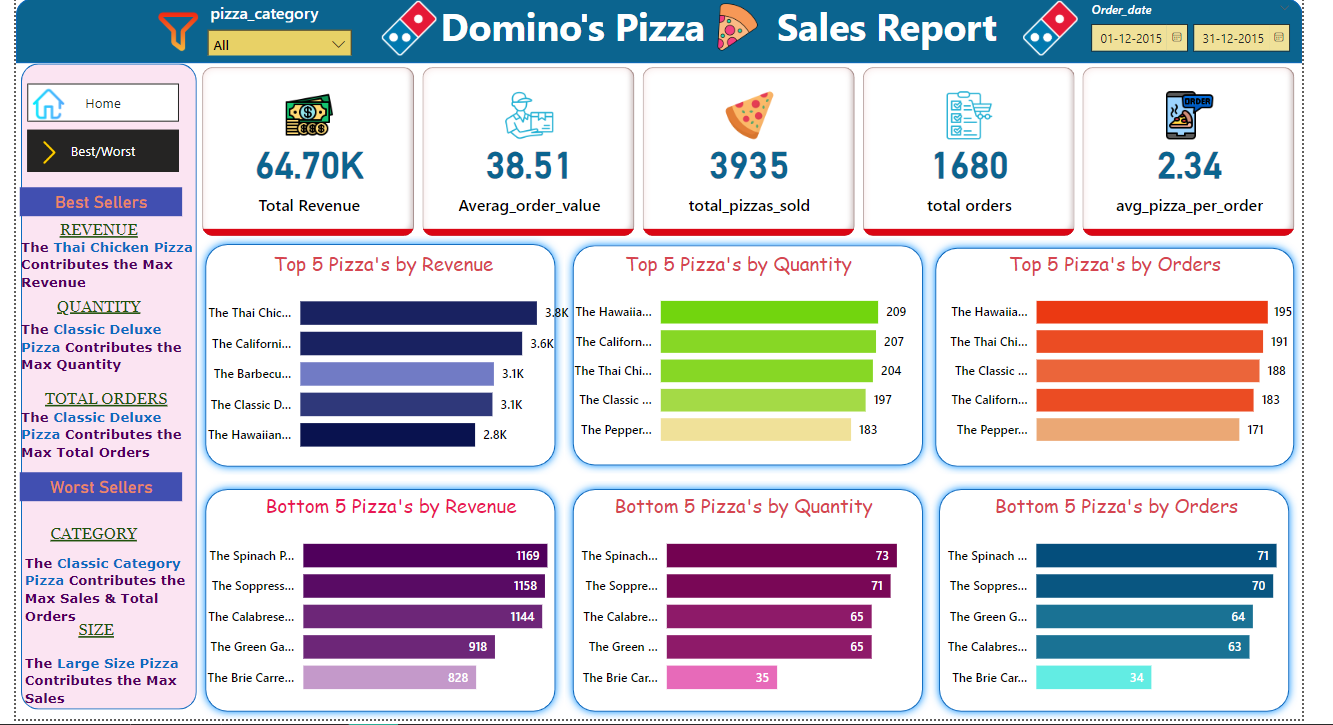

What the dashboard file says about the page in this screenshot:
{"tool":"powerbi","page":{"name":"Best/Worst","canvas":[1280,720],"ordinal":1},"visuals":[{"type":"cardVisual","fields":{"Data":["pizza_sales.Total Revenue","pizza_sales.Averag_order_value","pizza_sales.total_pizzas_sold","pizza_sales.total orders","pizza_sales.avg_pizza_per_order"]},"box":[180.3,66.1,1099.9,179],"z":0},{"type":"shape","box":[0,2.7,1280.3,64.5],"z":1000},{"type":"image","box":[329.3,0,123.5,64.5],"z":2000},{"type":"image","box":[967.4,0,123.5,64.5],"z":3000},{"type":"textbox","box":[318.4,0,761.6,65.9],"z":4000},{"type":"image","box":[649.1,1.4,137.2,59],"z":5000},{"type":"shape","box":[180.4,238.8,364.5,237.6],"z":6000},{"type":"shape","box":[5.5,67.5,174.8,642.9],"z":7000},{"type":"slicer","fields":{"Values":["pizza_sales.pizza_category"]},"box":[179.8,0,163.3,59],"z":8000},{"type":"slicer","fields":{"Values":["pizza_sales.order_date"]},"box":[1058,0,222.3,60.4],"z":9000},{"type":"shape","box":[546.1,240.1,364.5,235.1],"z":10000},{"type":"shape","box":[906.8,242.6,373.2,233.9],"z":11000},{"type":"shape","box":[180.4,482.7,364.5,237.6],"z":12000},{"type":"shape","box":[546.1,482.7,364.5,237.6],"z":13000},{"type":"shape","box":[910.6,482.7,364.5,237.6],"z":14000},{"type":"barChart","title":"Top 5 Pizza''s by Revenue","fields":{"Category":["pizza_sales.pizza_name"],"Y":["pizza_sales.Total Revenue"]},"box":[174.3,252.5,382.8,214.1],"z":15000},{"type":"barChart","title":"Bottom 5 Pizza''s by Revenue ","fields":{"Category":["pizza_sales.pizza_name"],"Y":["pizza_sales.Total Revenue"]},"box":[174.3,494,397.9,214.1],"z":16000},{"type":"barChart","title":"Top 5 Pizza''s by Quantity","fields":{"Category":["pizza_sales.pizza_name"],"Y":["pizza_sales.total_pizzas_sold"]},"box":[539.6,251.9,357.9,207.9],"z":17000},{"type":"barChart","title":"Top 5 Pizza''s by Orders","fields":{"Category":["pizza_sales.pizza_name"],"Y":["pizza_sales.total orders"]},"box":[911.3,251.9,363.4,207.9],"z":18000},{"type":"barChart","title":"Bottom 5 Pizza''s by Quantity","fields":{"Category":["pizza_sales.pizza_name"],"Y":["pizza_sales.total_pizzas_sold"]},"box":[544.8,494,358.1,214.1],"z":19000},{"type":"barChart","title":"Bottom 5 Pizza''s by Orders","fields":{"Category":["pizza_sales.pizza_name"],"Y":["pizza_sales.total orders"]},"box":[911.2,494,369.1,214.1],"z":20000},{"type":"pageNavigator","box":[11,133.5,151.4,42.7],"z":21000},{"type":"pageNavigator","box":[11,86.7,151.4,38.5],"z":22000},{"type":"image","box":[11,86.7,42.7,41.3],"z":23000},{"type":"image","box":[122.5,2.8,79.8,64.7],"z":24000},{"type":"image","box":[13.8,139,39.9,33],"z":25000},{"type":"textbox","box":[4.1,190.7,161.9,28.8],"z":26000},{"type":"textbox","box":[0,234.6,201.7,97.4],"z":27000},{"type":"textbox","box":[4.1,649.1,201.7,67.2],"z":28000},{"type":"textbox","box":[11,617.5,137.2,31.6],"z":29000},{"type":"textbox","box":[4.1,550.3,201.7,83.7],"z":30000},{"type":"textbox","box":[4.1,473.4,161.9,28.8],"z":30001},{"type":"textbox","box":[8.2,521.4,137.2,31.6],"z":30002},{"type":"textbox","box":[0,317,201.7,83.7],"z":30003},{"type":"textbox","box":[0,404.8,201.7,83.7],"z":30004},{"type":"textbox","box":[20.6,387,137.2,60.4],"z":30005},{"type":"textbox","box":[13.7,219.6,137.2,31.6],"z":30006},{"type":"textbox","box":[13.7,295,137.2,32.9],"z":30007}]}

Visuals, with their boxes on the page's 1280x720 design canvas (x1, y1, x2, y2). These are canvas units, not pixel positions in the 1333x725 screenshot, which may show the page scaled, cropped or inside an application window:
cardVisual - pizza_sales.Total Revenue x pizza_sales.Averag_order_value: rect(180, 66, 1280, 245)
shape: rect(0, 3, 1280, 67)
image: rect(329, 0, 453, 64)
image: rect(967, 0, 1091, 64)
textbox: rect(318, 0, 1080, 66)
image: rect(649, 1, 786, 60)
shape: rect(180, 239, 545, 476)
shape: rect(6, 68, 180, 710)
slicer - pizza_sales.pizza_category: rect(180, 0, 343, 59)
slicer - pizza_sales.order_date: rect(1058, 0, 1280, 60)
shape: rect(546, 240, 911, 475)
shape: rect(907, 243, 1280, 476)
shape: rect(180, 483, 545, 720)
shape: rect(546, 483, 911, 720)
shape: rect(911, 483, 1275, 720)
"Top 5 Pizza''s by Revenue" barChart: rect(174, 252, 557, 467)
"Bottom 5 Pizza''s by Revenue " barChart: rect(174, 494, 572, 708)
"Top 5 Pizza''s by Quantity" barChart: rect(540, 252, 898, 460)
"Top 5 Pizza''s by Orders" barChart: rect(911, 252, 1275, 460)
"Bottom 5 Pizza''s by Quantity" barChart: rect(545, 494, 903, 708)
"Bottom 5 Pizza''s by Orders" barChart: rect(911, 494, 1280, 708)
pageNavigator: rect(11, 134, 162, 176)
pageNavigator: rect(11, 87, 162, 125)
image: rect(11, 87, 54, 128)
image: rect(122, 3, 202, 68)
image: rect(14, 139, 54, 172)
textbox: rect(4, 191, 166, 220)
textbox: rect(0, 235, 202, 332)
textbox: rect(4, 649, 206, 716)
textbox: rect(11, 618, 148, 649)
textbox: rect(4, 550, 206, 634)
textbox: rect(4, 473, 166, 502)
textbox: rect(8, 521, 145, 553)
textbox: rect(0, 317, 202, 401)
textbox: rect(0, 405, 202, 488)
textbox: rect(21, 387, 158, 447)
textbox: rect(14, 220, 151, 251)
textbox: rect(14, 295, 151, 328)
